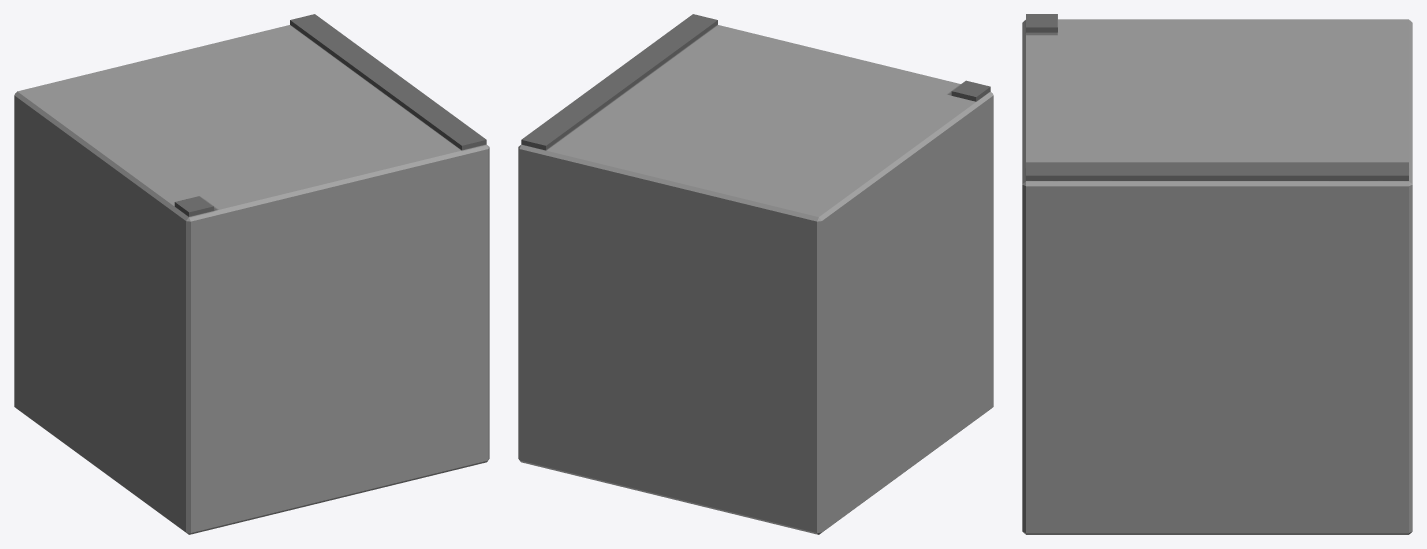
Rendered from 14 Concrete Misc.fbx.
3 renders of one model, left to right at view 1: azimuth 30°, elevation 25°; view 2: azimuth 150°, elevation 25°; view 3: azimuth 270°, elevation 25°, orthographic. The views are drawn at different scales.
Visible parts, largest first — view 1: 14 Concrete Misc; view 2: 14 Concrete Misc; view 3: 14 Concrete Misc.
Boxes of the visible parts, x1,y1,x2,y2 form: 14 Concrete Misc: [14, 14, 489, 534]; 14 Concrete Misc: [518, 14, 993, 534]; 14 Concrete Misc: [1022, 14, 1412, 534].
Size of the model in its own units: 100 by 102 by 100.
1 material, 1 textured.
